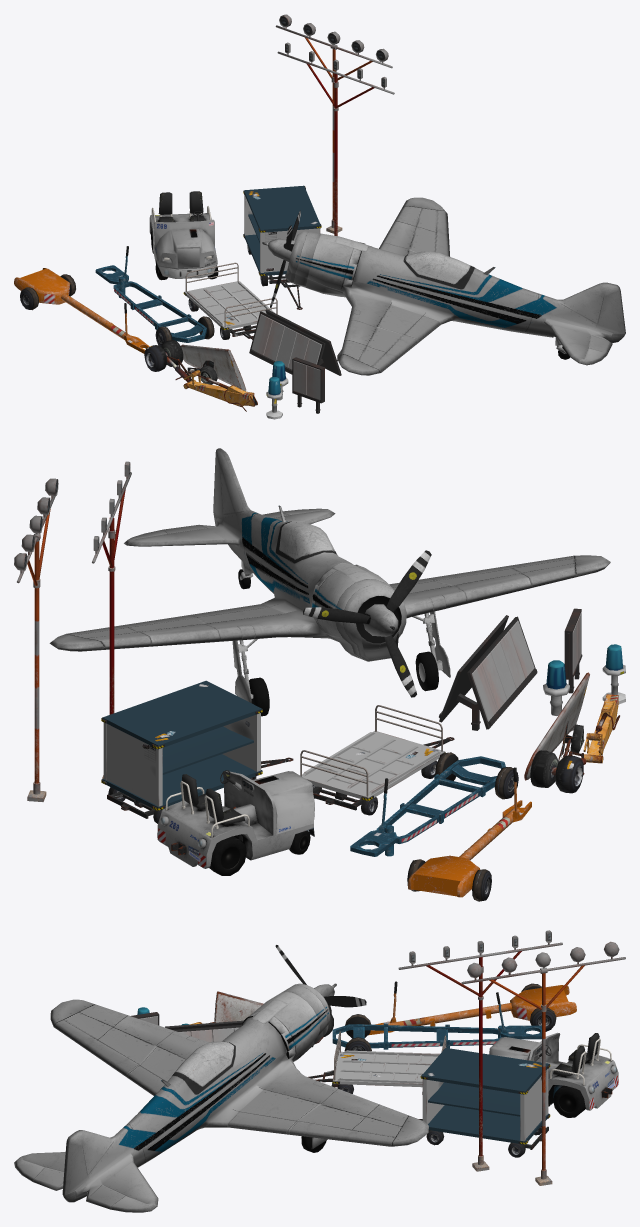
The model's file is Airfield_stuff.fbx.
3 renders of one model, top to bottom at view 1: azimuth 30°, elevation 25°; view 2: azimuth 150°, elevation 25°; view 3: azimuth 270°, elevation 25°, orthographic. The views are drawn at different scales.
Parts seen in each view (by area): view 1: SP_AFG_Oldplane_1, SP_AFG_Airtug_1, SP_AFG_Airtug_3, SP_AFG_Planestuff_1, SP_AFG_Airtug_2, SP_AFG_Linesign_1, SP_AFG_Towbar_2, SP_AFG_Towbar_1, SP_AFG_Mustlight_2, SP_AFG_Mustlight_1, SP_AFG_Linesign_2; view 2: SP_AFG_Oldplane_1, SP_AFG_Airtug_3, SP_AFG_Airtug_1, SP_AFG_Airtug_2, SP_AFG_Linesign_1, SP_AFG_Planestuff_1, SP_AFG_Towbar_1, SP_AFG_Towbar_2, SP_AFG_Mustlight_2, SP_AFG_Mustlight_1, SP_AFG_Linesign_2, DP_AFG_Linelight_2 (+1 smaller); view 3: SP_AFG_Oldplane_1, SP_AFG_Airtug_3, SP_AFG_Airtug_1, SP_AFG_Airtug_2, SP_AFG_Towbar_1, SP_AFG_Towbar_2, SP_AFG_Mustlight_2, SP_AFG_Mustlight_1, SP_AFG_Planestuff_1, SP_AFG_Linesign_1.
Part boxes in pixels (box(x1,y1,x2,y2)): SP_AFG_Oldplane_1: box(262, 197, 625, 375); SP_AFG_Airtug_1: box(149, 191, 218, 280); SP_AFG_Airtug_3: box(243, 185, 321, 309); SP_AFG_Planestuff_1: box(144, 340, 257, 411); SP_AFG_Airtug_2: box(183, 262, 277, 339); SP_AFG_Linesign_1: box(249, 309, 341, 375); SP_AFG_Towbar_2: box(14, 268, 149, 353); SP_AFG_Towbar_1: box(95, 246, 214, 346); SP_AFG_Mustlight_2: box(275, 14, 392, 233); SP_AFG_Mustlight_1: box(277, 42, 394, 235); SP_AFG_Linesign_2: box(292, 357, 324, 413); SP_AFG_Oldplane_1: box(49, 448, 610, 716); SP_AFG_Airtug_3: box(101, 680, 293, 823); SP_AFG_Airtug_1: box(157, 770, 314, 875); SP_AFG_Airtug_2: box(300, 705, 454, 815); SP_AFG_Linesign_1: box(439, 615, 537, 730); SP_AFG_Planestuff_1: box(524, 672, 619, 793); SP_AFG_Towbar_1: box(350, 752, 518, 856); SP_AFG_Towbar_2: box(407, 767, 531, 901); SP_AFG_Mustlight_2: box(14, 478, 58, 801); SP_AFG_Mustlight_1: box(92, 461, 131, 778); SP_AFG_Linesign_2: box(564, 608, 582, 693); DP_AFG_Linelight_2: box(543, 660, 569, 715); SP_AFG_Oldplane_1: box(14, 945, 428, 1212); SP_AFG_Airtug_3: box(419, 1048, 550, 1157); SP_AFG_Airtug_1: box(489, 1032, 618, 1117); SP_AFG_Airtug_2: box(308, 1031, 446, 1094); SP_AFG_Towbar_1: box(332, 992, 541, 1051); SP_AFG_Towbar_2: box(368, 981, 576, 1035); SP_AFG_Mustlight_2: box(461, 941, 625, 1185); SP_AFG_Mustlight_1: box(398, 930, 562, 1171); SP_AFG_Planestuff_1: box(190, 991, 333, 1043); SP_AFG_Linesign_1: box(165, 1020, 243, 1042).
Size of the model in its own units: 987 by 450 by 1072.
